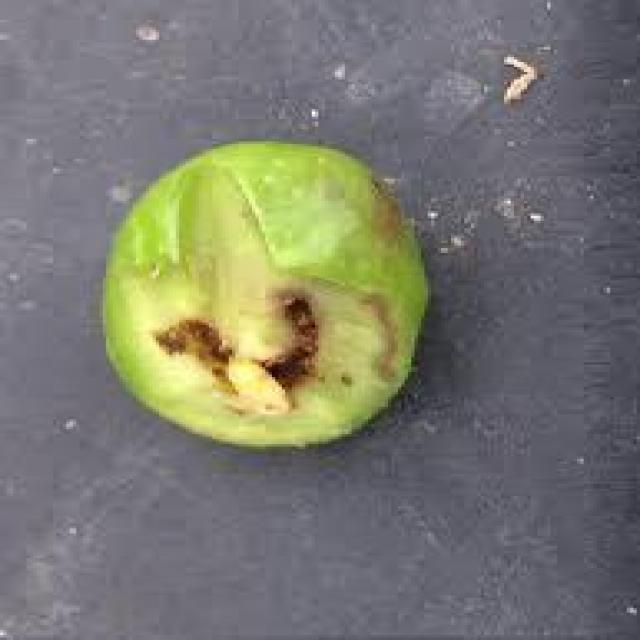Anthracnose: (106, 142, 424, 446)
